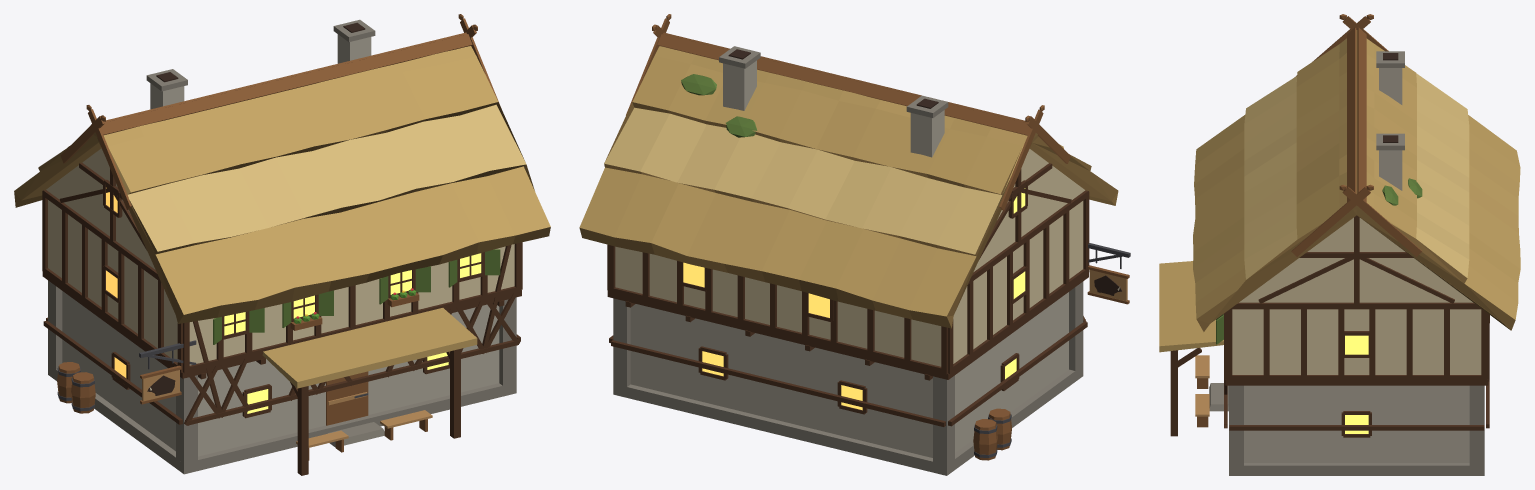
The model's file is Dorf_Taverne.fbx.
The picture shows the model from 3 angles, left to right: view 1: azimuth 30°, elevation 25°; view 2: azimuth 150°, elevation 25°; view 3: azimuth 270°, elevation 25°; orthographic projection. The views are drawn at different scales.
Parts seen in each view (by area): view 1: Dorf_Taverne; view 2: Dorf_Taverne; view 3: Dorf_Taverne.
Part boxes in pixels (<box>): Dorf_Taverne: <box>14,14,550,475</box>; Dorf_Taverne: <box>579,14,1130,475</box>; Dorf_Taverne: <box>1159,14,1520,475</box>.
Bounding box in the file's own units: 11.51 × 8.87 × 9.61.
